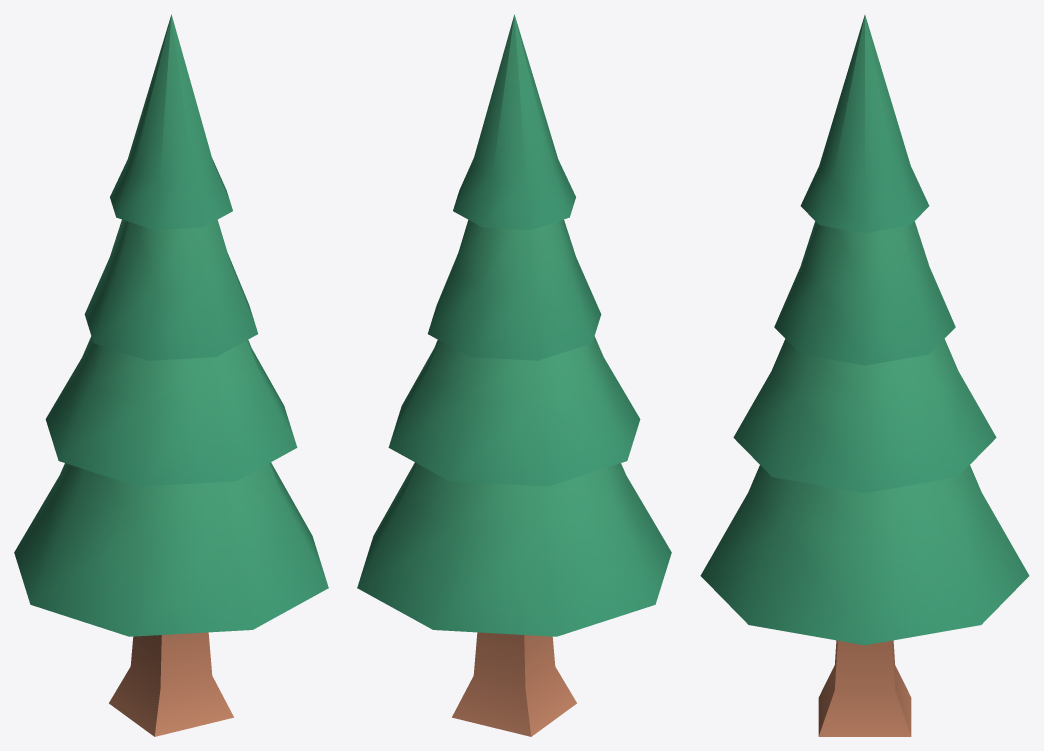
Rendered from tree.glb.
The picture shows the model from 3 angles, left to right: view 1: azimuth 30°, elevation 25°; view 2: azimuth 150°, elevation 25°; view 3: azimuth 270°, elevation 25°; orthographic projection.
Visible parts, largest first — view 1: tree; view 2: tree; view 3: tree.
Boxes of the visible parts, x1,y1,x2,y2 form: tree: (14, 14, 328, 736); tree: (357, 14, 671, 736); tree: (700, 15, 1029, 736).
Size of the model in its own units: 1.02 by 2.41 by 1.02.
Materials: 1 (1 with a texture image).
